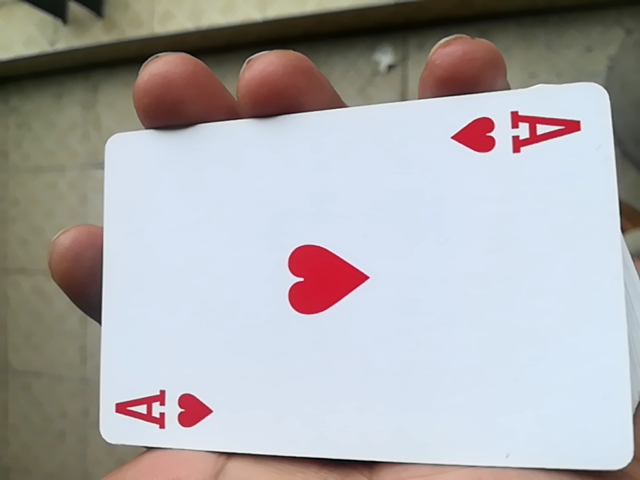hx a: (73, 91, 630, 470)
